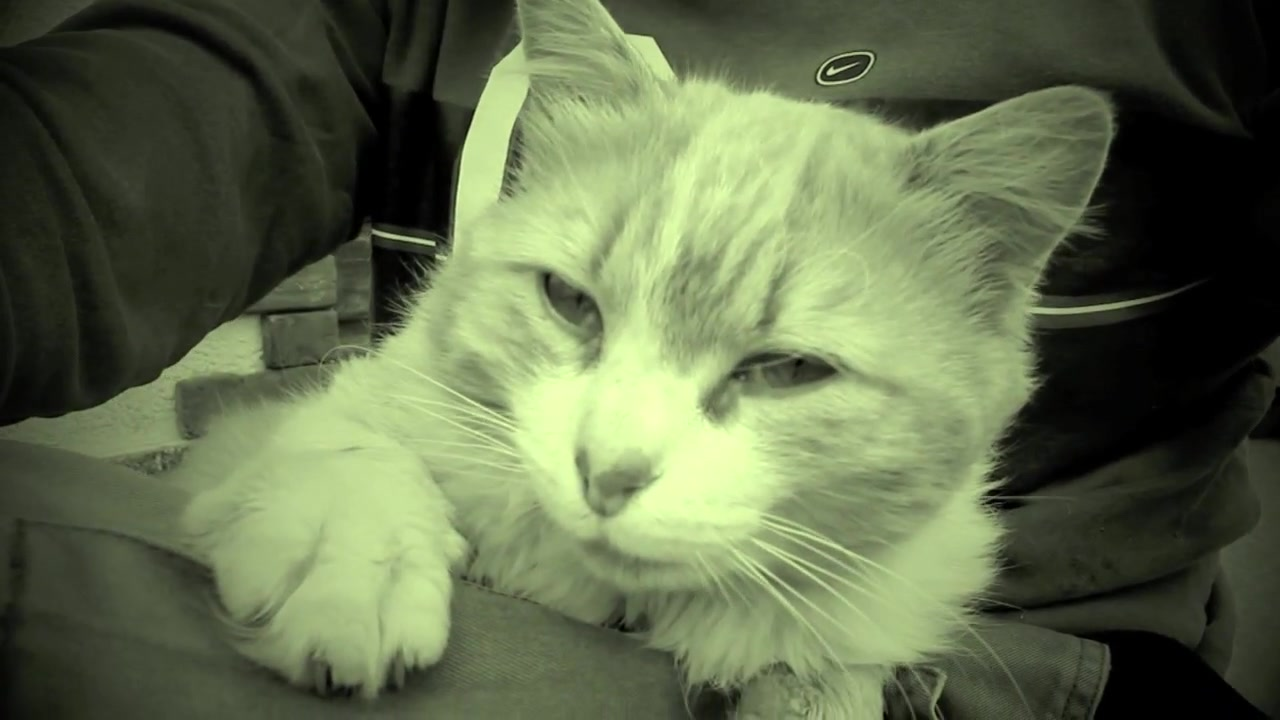cat: (167, 3, 1146, 720)
